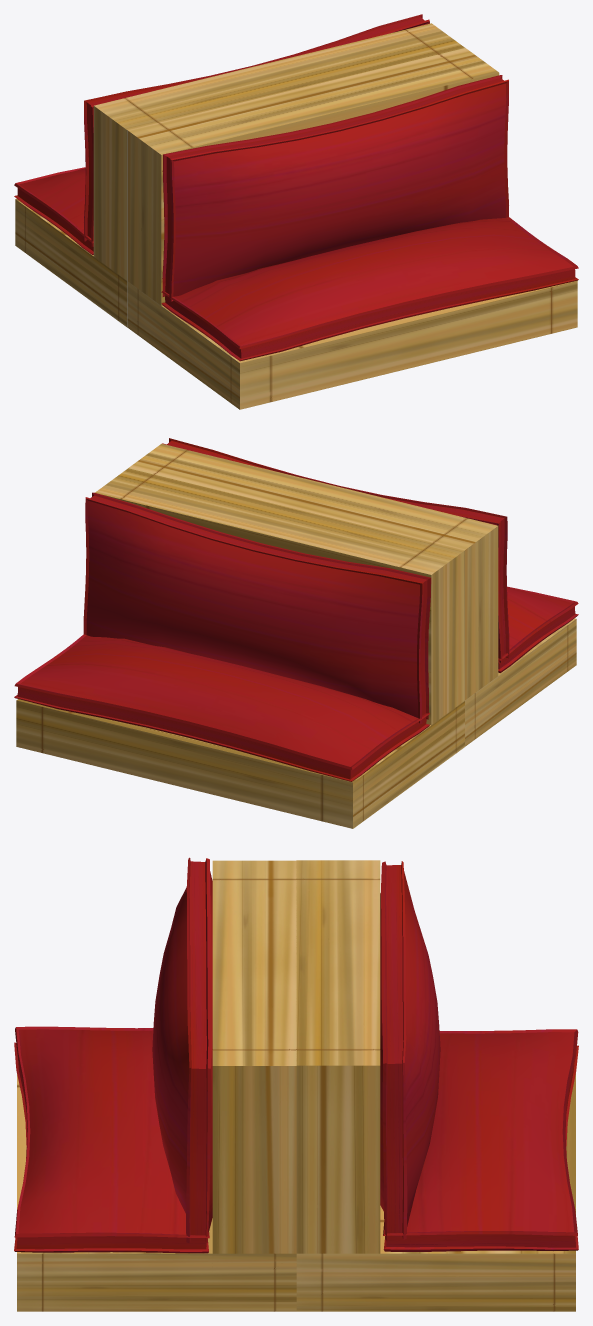
The model's file is booths.fbx.
3 renders of one model, top to bottom at view 1: azimuth 30°, elevation 25°; view 2: azimuth 150°, elevation 25°; view 3: azimuth 270°, elevation 25°, orthographic. The views are drawn at different scales.
Parts seen in each view (by area): view 1: pCube35; view 2: pCube35; view 3: pCube35.
Part boxes in pixels (x1,y1,x2,y2): pCube35: (14,14,578,409); pCube35: (14,438,578,828); pCube35: (14,857,578,1311).
Size of the model in its own units: 20.16 by 11.31 by 23.26.
Materials: 3 (2 with a texture image).
